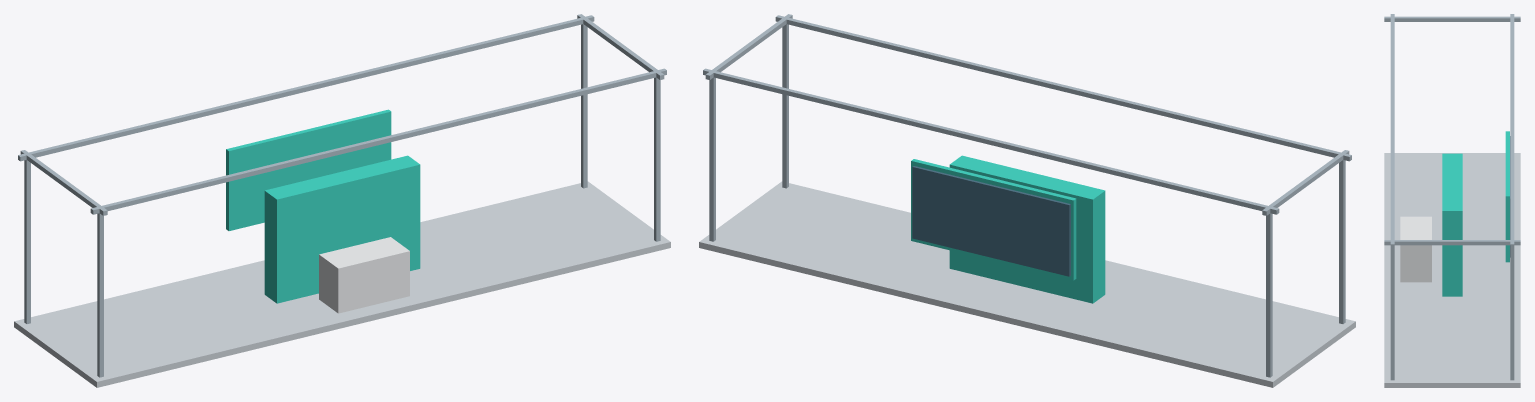
3 views of the same model, side by side, from view 1: azimuth 30°, elevation 25°; view 2: azimuth 150°, elevation 25°; view 3: azimuth 270°, elevation 25° (orthographic). The views are drawn at different scales.
Visible parts, largest first — view 1: Exhibition Booth Concept; view 2: Exhibition Booth Concept; view 3: Exhibition Booth Concept.
Boxes of the visible parts, box(x1,y1,x2,y2) form: Exhibition Booth Concept: box(14, 14, 670, 387); Exhibition Booth Concept: box(699, 14, 1355, 387); Exhibition Booth Concept: box(1384, 14, 1520, 387).
Size of the model in its own units: 12 by 3.49 by 3.
